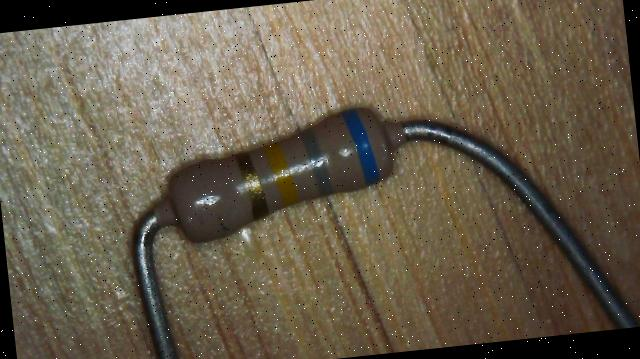blue: (341, 106, 381, 186)
gold: (236, 150, 268, 220)
grey: (300, 126, 333, 196)
resistor: (138, 80, 436, 274)
yellow: (262, 140, 298, 207)
